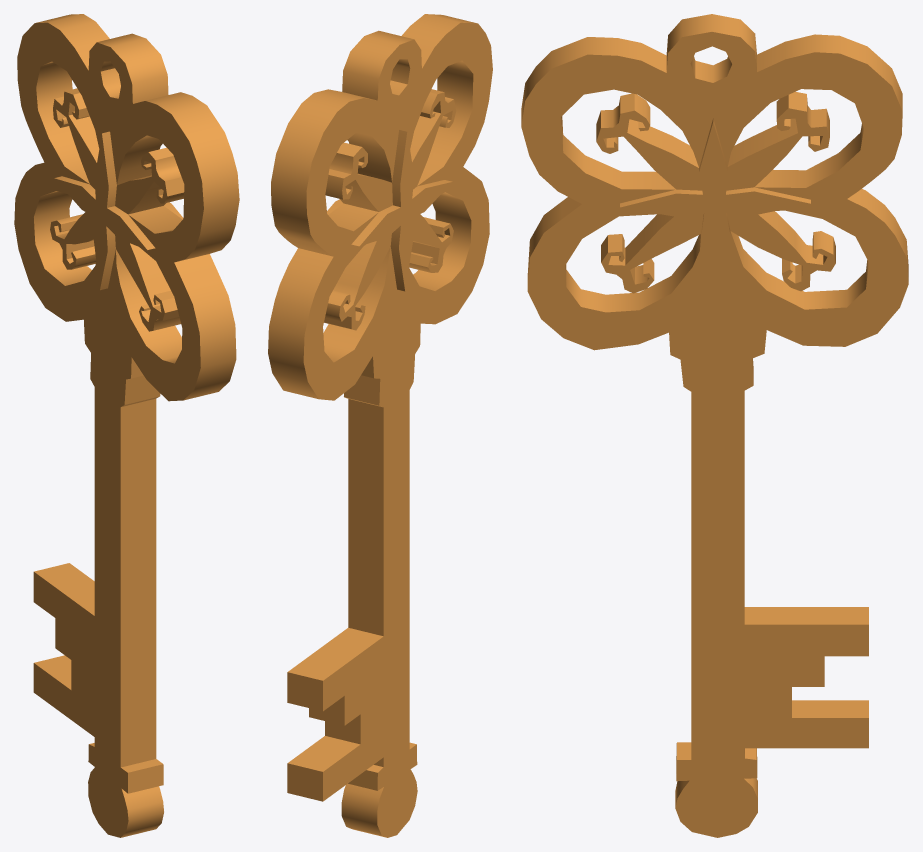
Rendered from GoldKey2.fbx.
3 views of the same model, side by side, from view 1: azimuth 30°, elevation 25°; view 2: azimuth 150°, elevation 25°; view 3: azimuth 270°, elevation 25° (orthographic). The views are drawn at different scales.
Parts seen in each view (by area): view 1: Circle; view 2: Circle; view 3: Circle.
Part boxes in pixels (bbox=[...]): Circle: bbox=[14, 14, 239, 837]; Circle: bbox=[268, 14, 492, 837]; Circle: bbox=[521, 14, 908, 837].
Size of the model in its own units: 0.3144 by 4.57 by 1.99.
